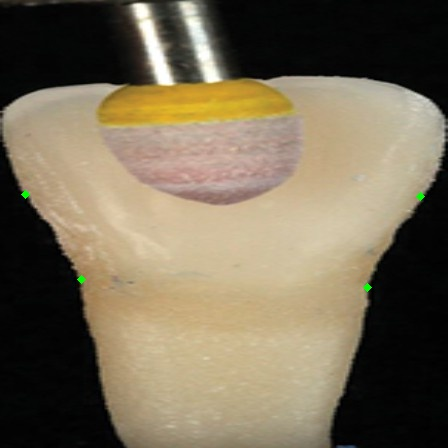coin_1: (367, 287, 387, 307)
coin_2: (420, 196, 440, 216)
coin_3: (81, 279, 101, 299)
coin_4: (25, 194, 45, 214)
